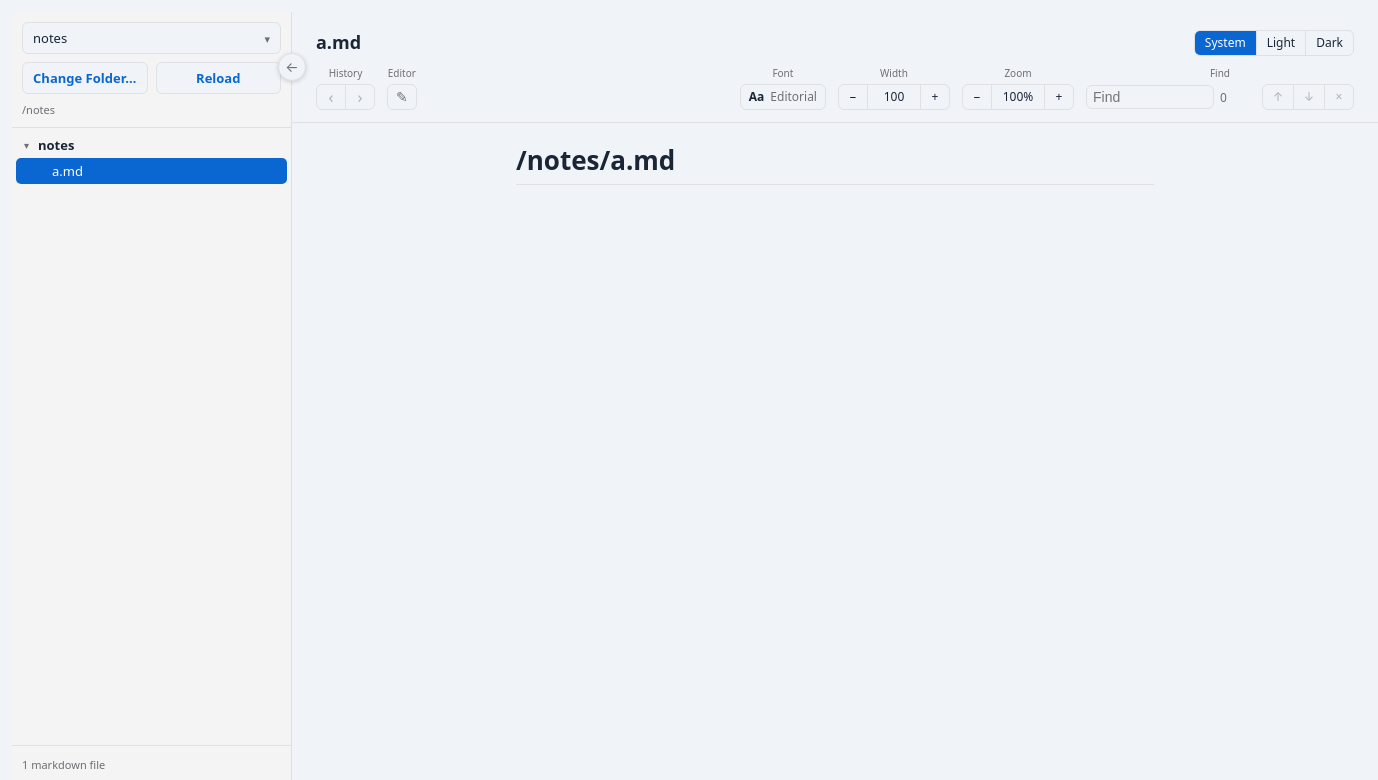
removes a folder from the menu on right-click
This screenshot has width=1378, height=780.
Click the button with aria-label "Recent folders" at (152, 38), box [22,22,281,54]
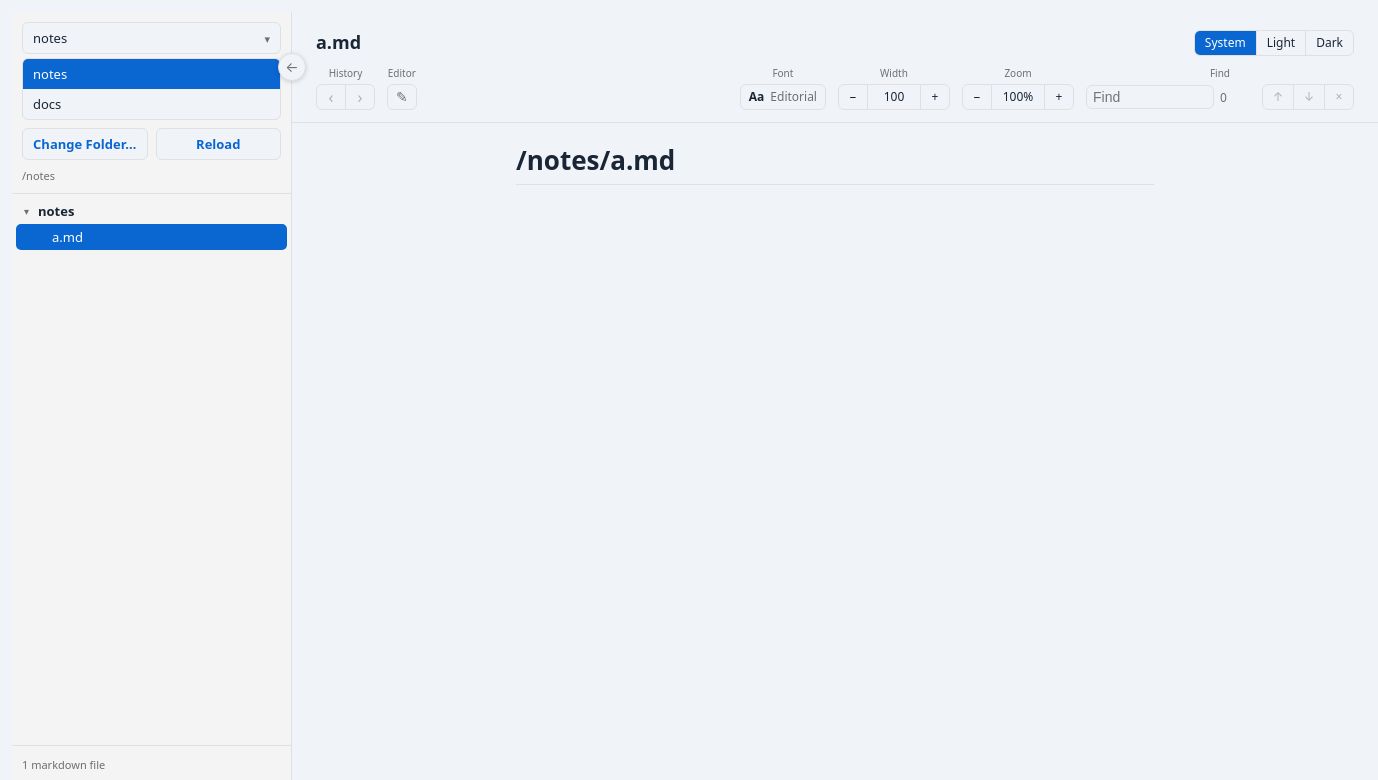
Right-click the menu item with aria-label "/docs" at (152, 104), box [23,89,280,119]
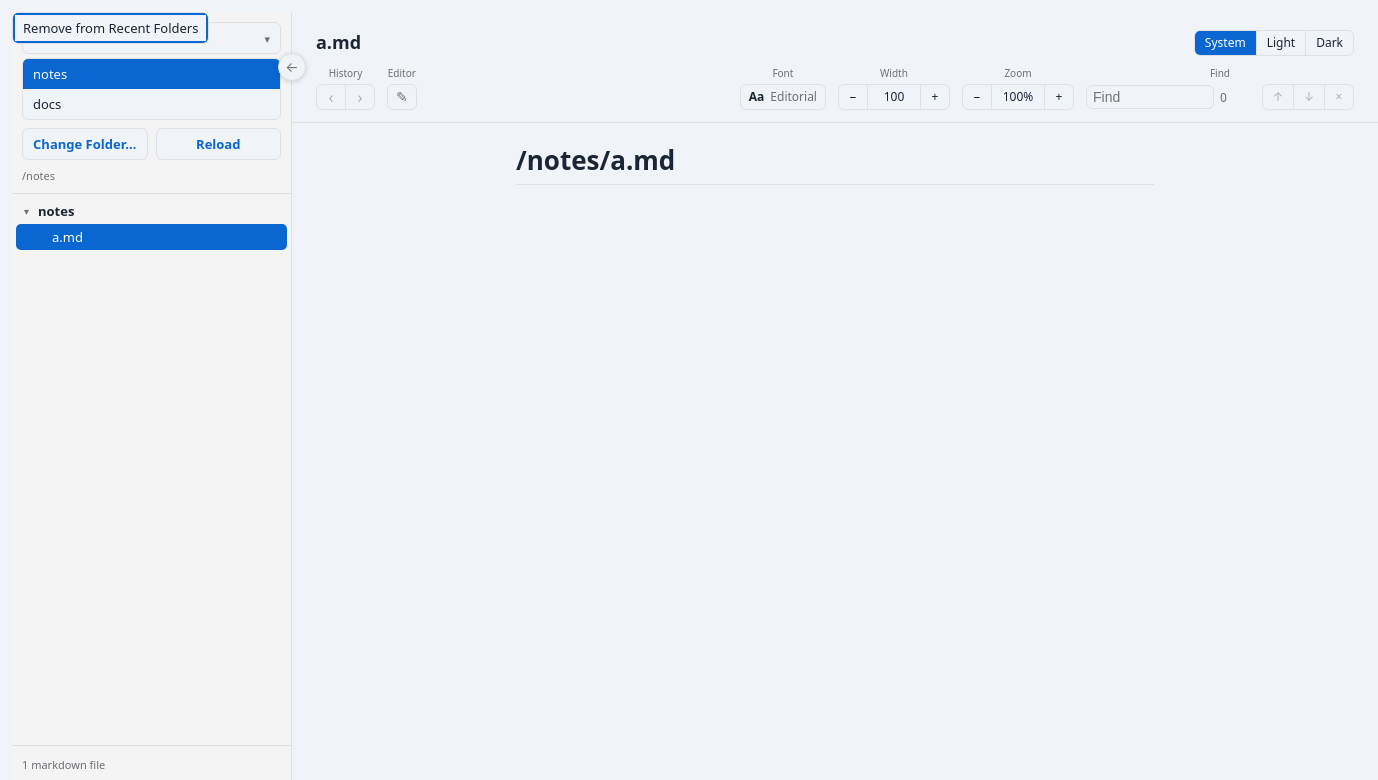
Click the menu item "Remove from Recent Folders" at (111, 28), box [13,13,208,43]
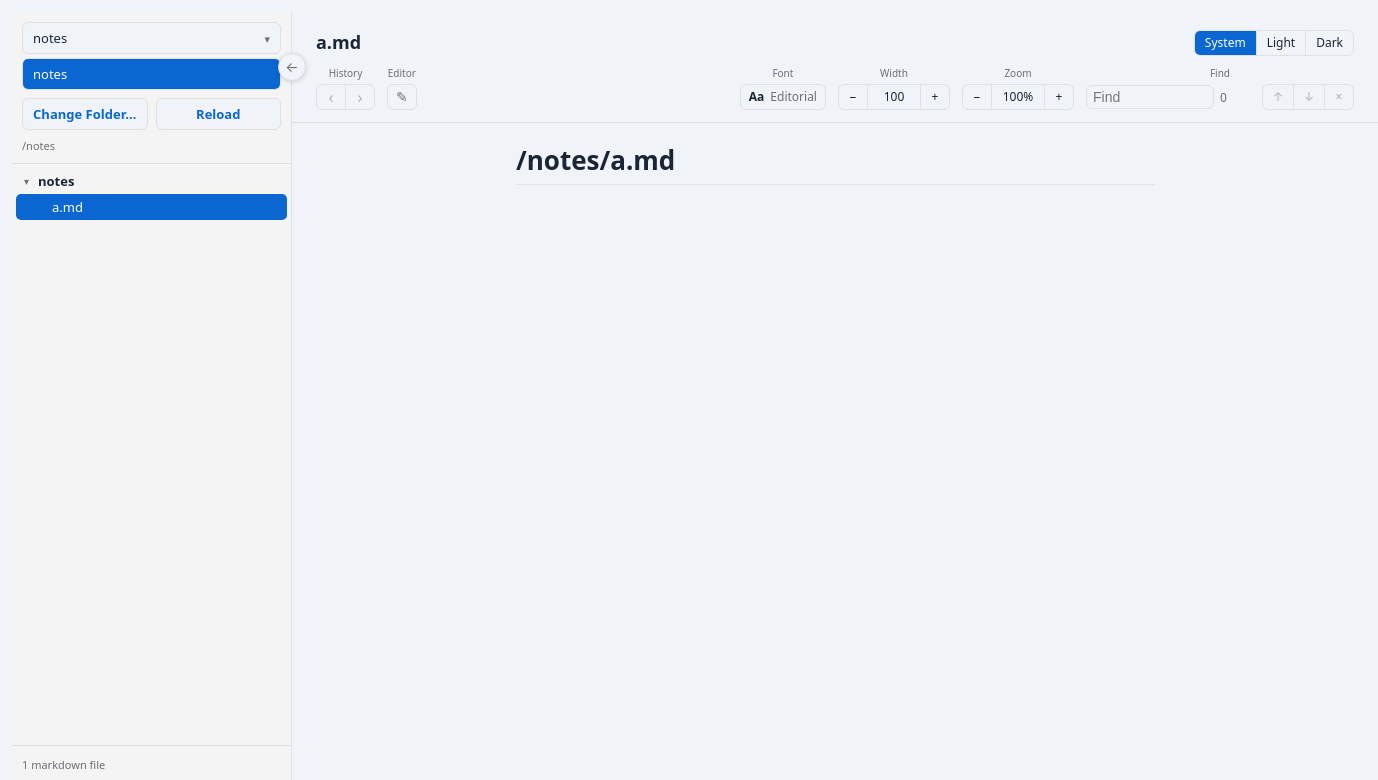
Check: the list item "a.md" is shown, box [16,194,287,220]
Check: the menu item with aria-label "/notes" is shown, box [23,59,280,89]
Check: the menu item "/docs" is gone
